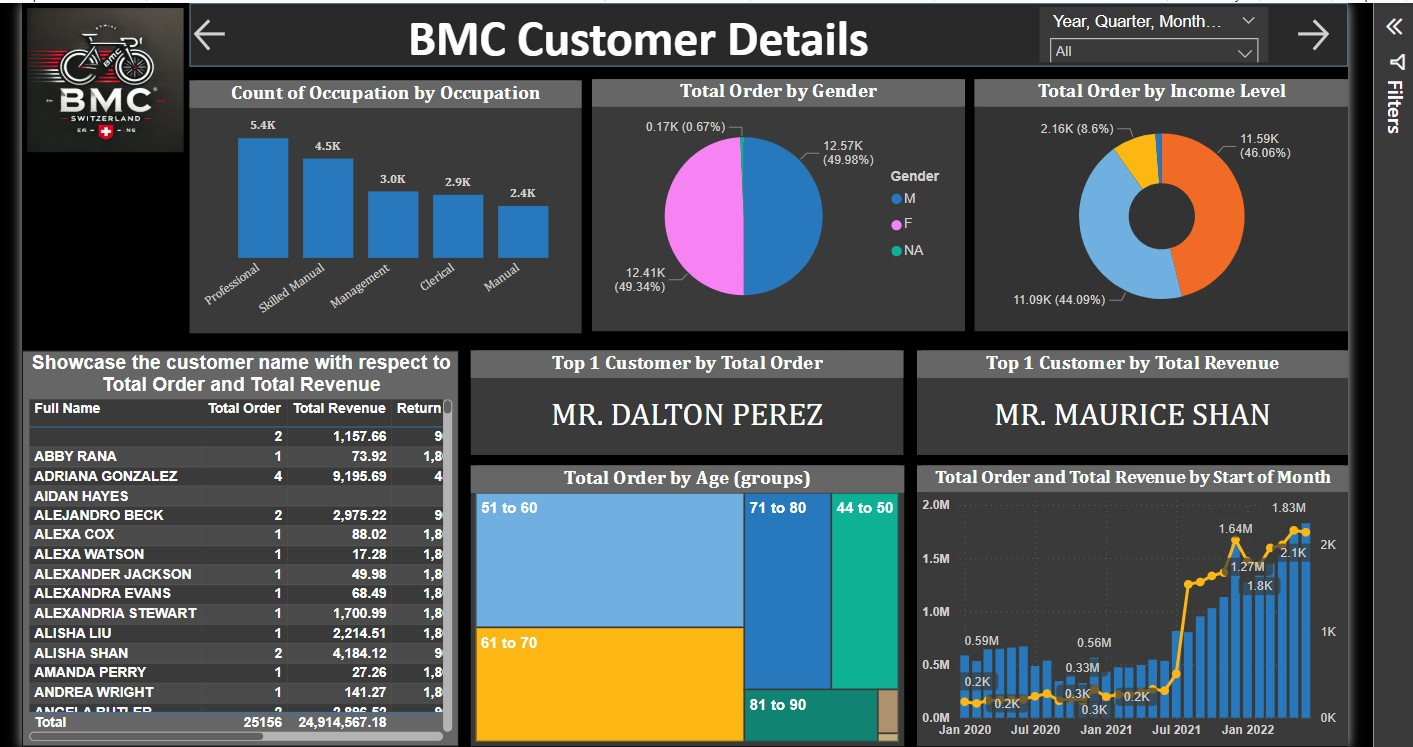

What the dashboard file says about the page in this screenshot:
{"tool":"powerbi","page":{"name":"Customer Details","canvas":[1280,720],"ordinal":1},"visuals":[{"type":"shape","title":"BMC Switzerland","box":[161.4,0,1118.6,61.4],"z":0},{"type":"image","box":[0,0,161.3,148.9],"z":1000},{"type":"textbox","box":[205.7,0,777.1,72.9],"z":2000},{"type":"donutChart","title":"Total Order by Income Level","fields":{"Y":["KPI Home.Total Order"],"Category":["BMCS_Customers_DIM.IncomeLevel"]},"box":[918.7,74.1,361.6,243],"z":3000},{"type":"pieChart","fields":{"Y":["KPI Home.Total Order"],"Category":["BMCS_Customers_DIM.Gender"]},"box":[549.8,74.1,360.1,243],"z":4000},{"type":"clusteredColumnChart","fields":{"Category":["BMCS_Customers_DIM.Occupation"],"Y":["BMCS_Customers_DIM.Occupation"]},"box":[161.3,74.4,378.4,244.4],"z":5000},{"type":"treemap","fields":{"Values":["KPI Home.Total Order"],"Group":["BMCS_Customers_DIM.Age (groups)"]},"box":[433,446.6,418.1,271.7],"z":6000},{"type":"lineStackedColumnComboChart","title":"Total Order and Total Revenue by Start of Month","fields":{"Y":["KPI Home.Total Revenue"],"Category":["BMCS_Calendar_DIM.Start of Month"],"Y2":["KPI Home.Total Order"]},"box":[863.4,446.6,416.8,271.7],"z":7000},{"type":"card","title":"Top 1 Customer by Total Revenue","fields":{"Values":["BMCS_Customers_DIM.Full Name"]},"box":[863.9,334.9,416.4,100.8],"z":8000},{"type":"card","title":"Top 1 Customer by Total Order","fields":{"Values":["BMCS_Customers_DIM.Full Name"]},"box":[432.7,334.9,417.9,100.8],"z":9000},{"type":"tableEx","title":"Showcase the customer name with respect to Total Order and Total Revenue","fields":{"Values":["BMCS_Customers_DIM.Full Name","KPI Home.Total Order","KPI Home.Total Revenue","KPI Home.Return Rate","KPI Home.Total Return","KPI Home.Total Cost","KPI Home.Total Profit"]},"box":[0,334.9,421.8,383.3],"z":10000},{"type":"slicer","fields":{"Values":["BMCS_Calendar_DIM.Date.Variation.Date Hierarchy.Year","BMCS_Calendar_DIM.Date.Variation.Date Hierarchy.Quarter","BMCS_Calendar_DIM.Date.Variation.Date Hierarchy.Month","BMCS_Calendar_DIM.Date.Variation.Date Hierarchy.Day"]},"box":[982.5,3.7,220.8,53.3],"z":11000},{"type":"actionButton","box":[1225.4,11.2,54.6,39.7],"z":12000},{"type":"actionButton","box":[161.3,11.2,100.5,39.7],"z":13000}]}

Visuals, with their boxes on the page's 1280x720 design canvas (x1, y1, x2, y2). These are canvas units, not pixel positions in the 1413x747 screenshot, which may show the page scaled, cropped or inside an application window:
"BMC Switzerland" shape: [left=161, top=0, right=1280, bottom=61]
image: [left=0, top=0, right=161, bottom=149]
textbox: [left=206, top=0, right=983, bottom=73]
"Total Order by Income Level" donutChart: [left=919, top=74, right=1280, bottom=317]
pieChart - KPI Home.Total Order x BMCS_Customers_DIM.Gender: [left=550, top=74, right=910, bottom=317]
clusteredColumnChart - BMCS_Customers_DIM.Occupation x BMCS_Customers_DIM.Occupation: [left=161, top=74, right=540, bottom=319]
treemap - KPI Home.Total Order x BMCS_Customers_DIM.Age (groups): [left=433, top=447, right=851, bottom=718]
"Total Order and Total Revenue by Start of Month" lineStackedColumnComboChart: [left=863, top=447, right=1280, bottom=718]
"Top 1 Customer by Total Revenue" card: [left=864, top=335, right=1280, bottom=436]
"Top 1 Customer by Total Order" card: [left=433, top=335, right=851, bottom=436]
"Showcase the customer name with respect to Total Order and Total Revenue" tableEx: [left=0, top=335, right=422, bottom=718]
slicer - BMCS_Calendar_DIM.Date.Variation.Date Hierarchy.Year x BMCS_Calendar_DIM.Date.Variation.Date Hierarchy.Quarter: [left=982, top=4, right=1203, bottom=57]
actionButton: [left=1225, top=11, right=1280, bottom=51]
actionButton: [left=161, top=11, right=262, bottom=51]
